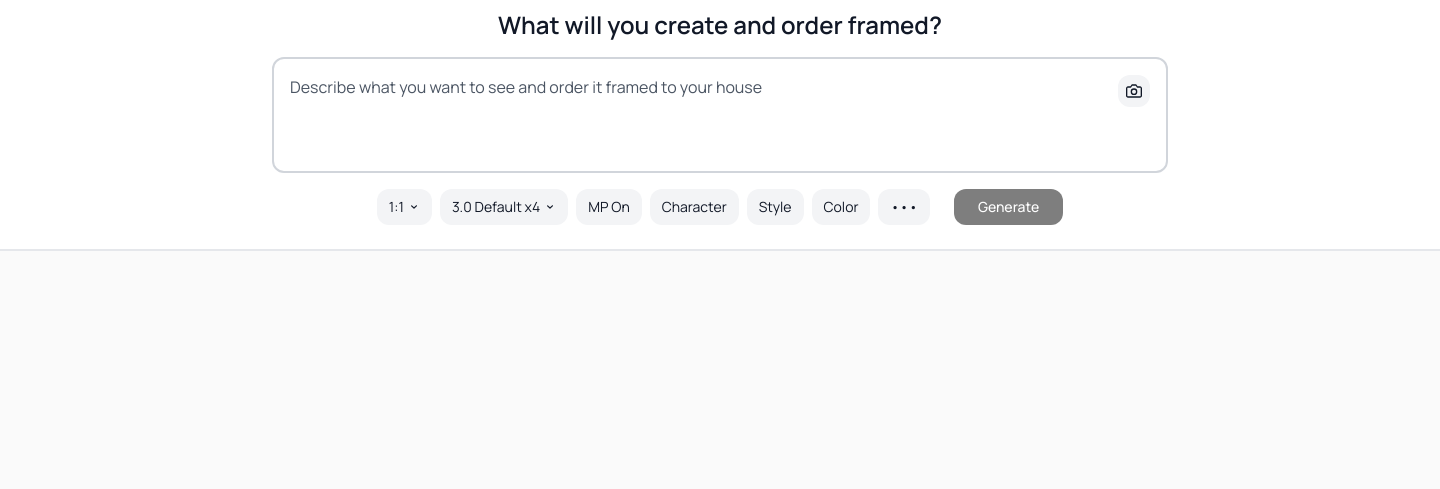
Dropdown State Persistence › SearchBar Integration › should maintain magic prompt state when reopening dropdown
This screenshot has width=1440, height=489.
# Open magic prompt dropdown
Click the button "MP On": (609, 207) [576,189,642,225]
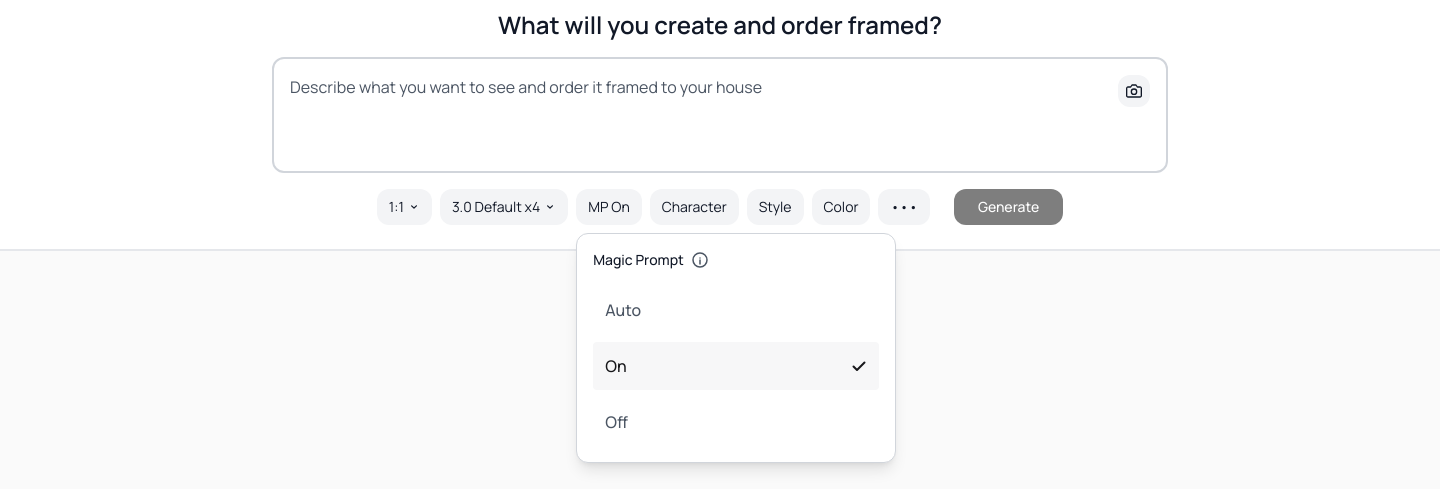
expect the text "Off" is shown: met, box [605,410,628,434]
# Change to "Off"
Click the button "Off": (617, 422) [593,398,879,446]
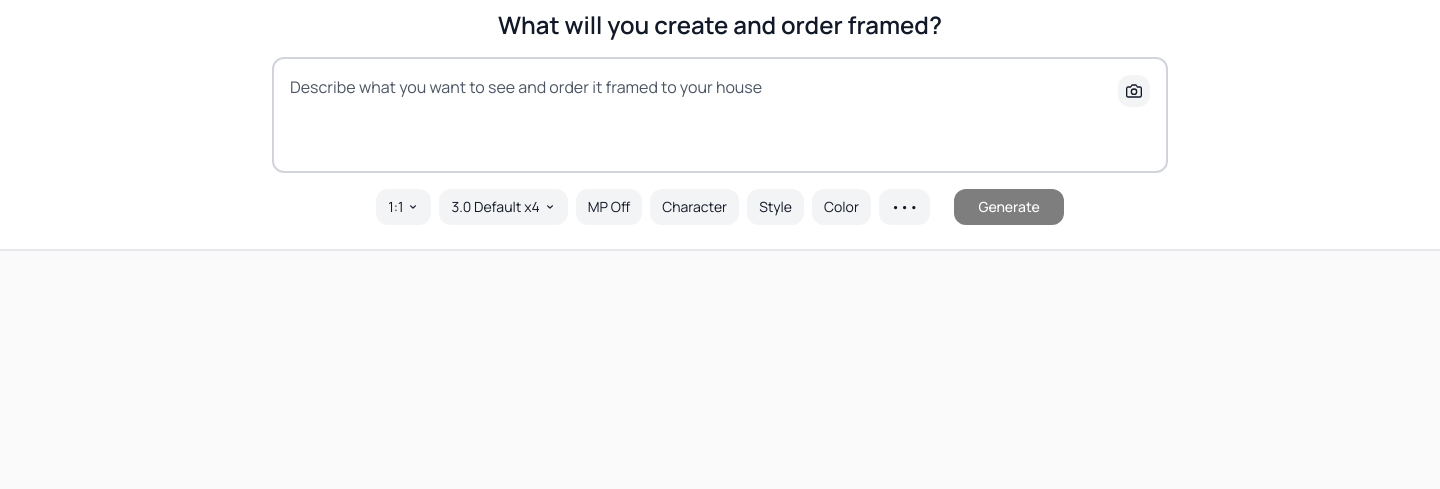
expect the text "MP Off" is shown: met, box [588,197,630,217]
